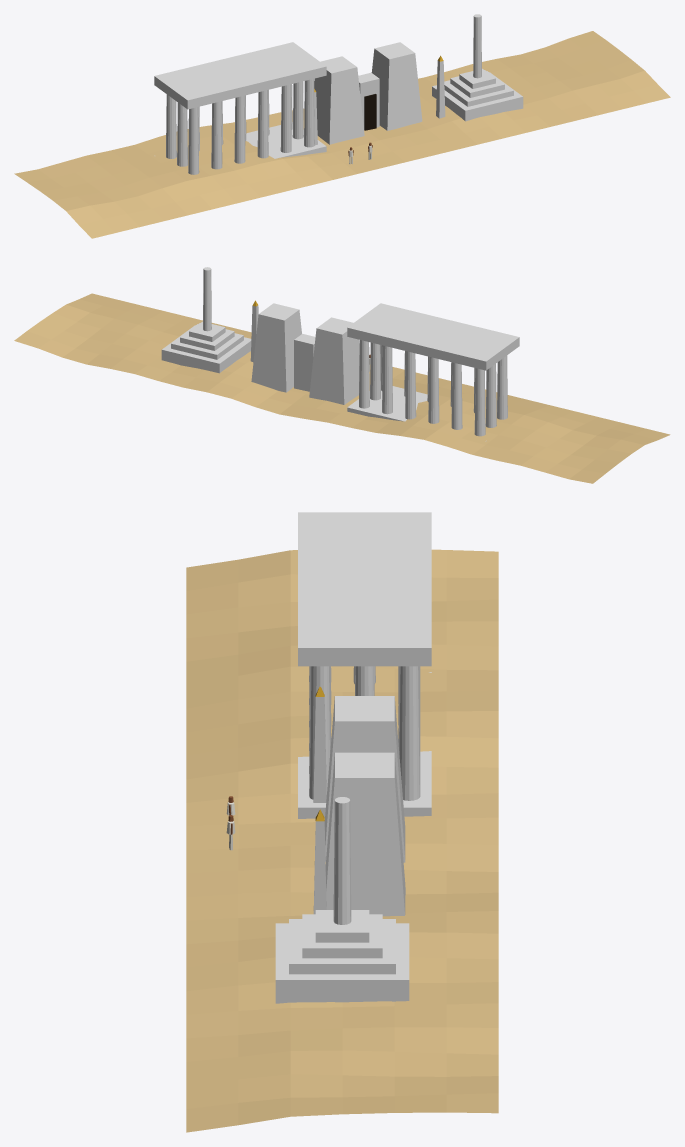
Rendered from egipto_bg_mid.fbx.
The picture shows the model from 3 angles, top to bottom: view 1: azimuth 30°, elevation 25°; view 2: azimuth 150°, elevation 25°; view 3: azimuth 270°, elevation 25°; orthographic projection. The views are drawn at different scales.
Visible parts, largest first — view 1: egipto_bg_mid; view 2: egipto_bg_mid; view 3: egipto_bg_mid.
Boxes of the visible parts, box(x1,y1,x2,y2) form: egipto_bg_mid: box(14, 14, 670, 238); egipto_bg_mid: box(14, 267, 670, 483); egipto_bg_mid: box(186, 512, 498, 1132).
Bounding box in the file's own units: 60 × 9 × 14.
